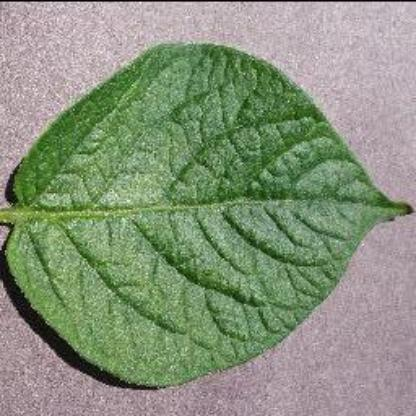Healthy-plant: (3, 14, 413, 392)
